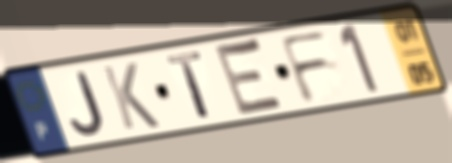1: (337, 21, 385, 97)
E: (211, 35, 289, 120)
F: (276, 27, 333, 107)
J: (68, 69, 107, 138)
K: (99, 60, 164, 133)
T: (162, 48, 215, 123)
